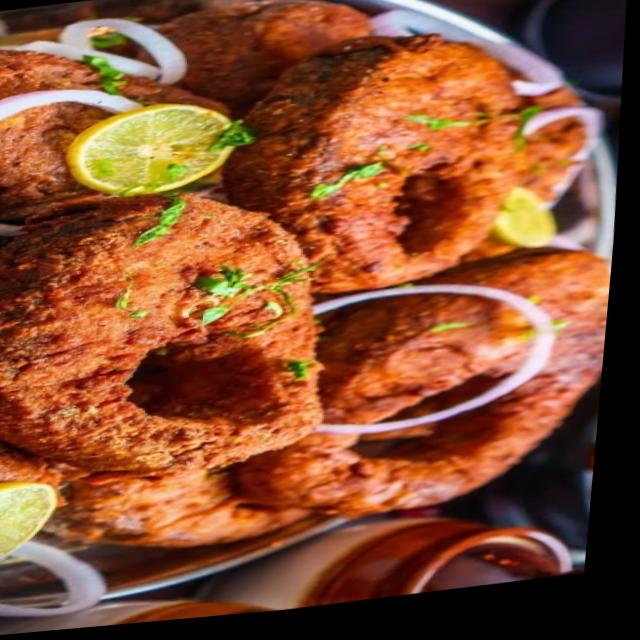FISH FRY: (0, 1, 611, 547)
